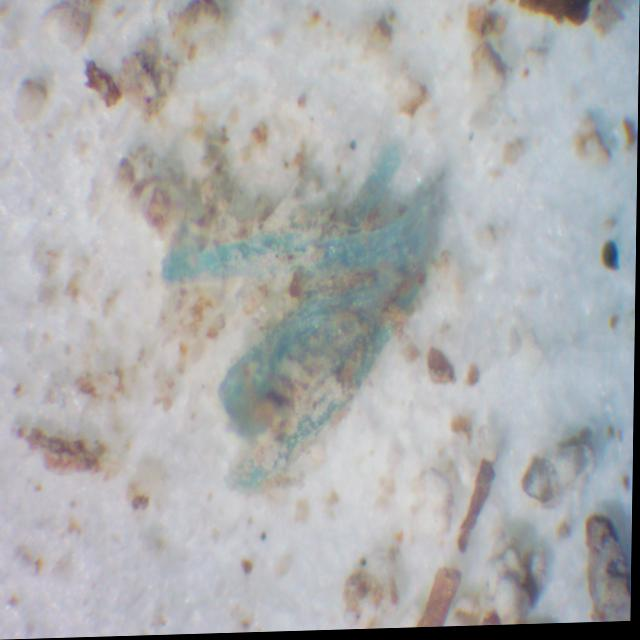microplastic: (164, 183, 434, 487)
